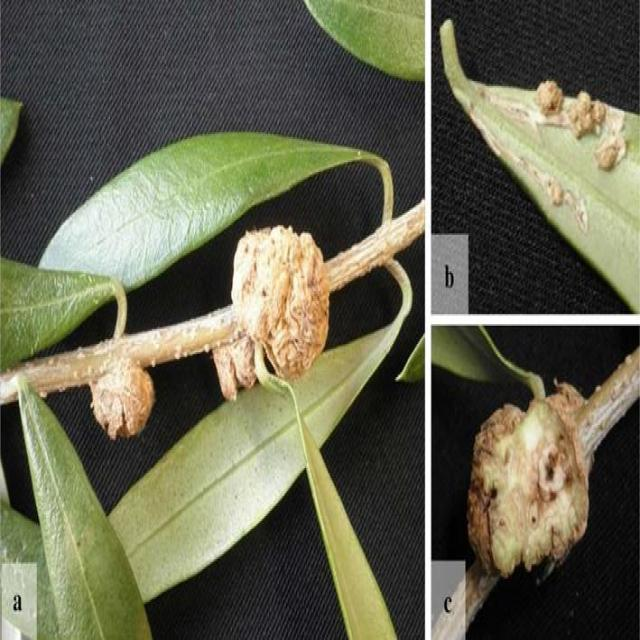Tuberculosis: (468, 382, 590, 577), (211, 225, 331, 399), (88, 344, 154, 440), (568, 91, 606, 139), (533, 79, 563, 120), (594, 136, 620, 170)
